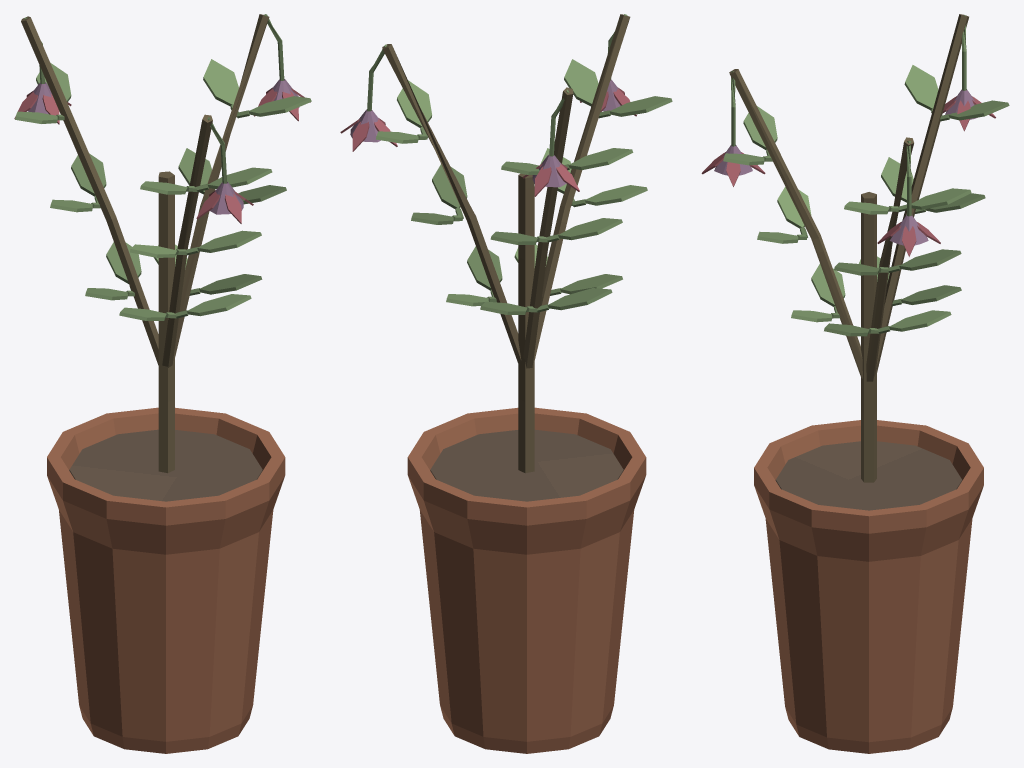
The model's file is fuchsia.glb.
3 renders of one model, left to right at view 1: azimuth 30°, elevation 25°; view 2: azimuth 150°, elevation 25°; view 3: azimuth 270°, elevation 25°, orthographic. The views are drawn at different scales.
Visible parts, largest first — view 1: fuchsia/review-terra-vessel, fuchsia/review-rooted-soil, fuchsia/petiole-001, fuchsia/stem-022, fuchsia/stem-042, fuchsia/stem-002, fuchsia/leaf-014, fuchsia/leaf-046, fuchsia/leaf-050, fuchsia/leaf-012, fuchsia/leaf-004, fuchsia/leaf-054 (+4 smaller); view 2: fuchsia/review-terra-vessel, fuchsia/review-rooted-soil, fuchsia/petiole-001, fuchsia/stem-042, fuchsia/stem-002, fuchsia/stem-022, fuchsia/leaf-054, fuchsia/leaf-012, fuchsia/leaf-008, fuchsia/leaf-026, fuchsia/leaf-030, fuchsia/leaf-034 (+4 smaller); view 3: fuchsia/review-terra-vessel, fuchsia/review-rooted-soil, fuchsia/petiole-001, fuchsia/stem-042, fuchsia/stem-022, fuchsia/stem-002, fuchsia/leaf-034, fuchsia/leaf-006, fuchsia/leaf-010, fuchsia/leaf-014, fuchsia/leaf-024, fuchsia/leaf-048 (+4 smaller).
Part boxes in pixels (bbox=[...]): fuchsia/review-terra-vessel: bbox=[47, 407, 285, 753]; fuchsia/review-rooted-soil: bbox=[69, 429, 262, 501]; fuchsia/petiole-001: bbox=[158, 171, 174, 473]; fuchsia/stem-022: bbox=[21, 16, 158, 365]; fuchsia/stem-042: bbox=[162, 114, 212, 367]; fuchsia/stem-002: bbox=[175, 14, 269, 356]; fuchsia/leaf-014: bbox=[203, 59, 238, 106]; fuchsia/leaf-046: bbox=[187, 294, 251, 316]; fuchsia/leaf-050: bbox=[197, 230, 261, 252]; fuchsia/leaf-012: bbox=[248, 96, 311, 116]; fuchsia/leaf-004: bbox=[199, 274, 262, 294]; fuchsia/leaf-054: bbox=[208, 167, 272, 188]; fuchsia/review-terra-vessel: bbox=[407, 407, 646, 753]; fuchsia/review-rooted-soil: bbox=[430, 429, 623, 501]; fuchsia/petiole-001: bbox=[518, 173, 534, 473]; fuchsia/stem-042: bbox=[534, 14, 630, 359]; fuchsia/stem-002: bbox=[382, 44, 521, 362]; fuchsia/stem-022: bbox=[523, 87, 573, 368]; fuchsia/leaf-054: bbox=[564, 59, 598, 106]; fuchsia/leaf-012: bbox=[397, 80, 431, 127]; fuchsia/leaf-008: bbox=[432, 164, 467, 209]; fuchsia/leaf-026: bbox=[547, 288, 612, 310]; fuchsia/leaf-030: bbox=[558, 218, 622, 240]; fuchsia/leaf-034: bbox=[568, 148, 633, 169]; fuchsia/review-terra-vessel: bbox=[754, 420, 983, 753]; fuchsia/review-rooted-soil: bbox=[775, 441, 962, 510]; fuchsia/petiole-001: bbox=[861, 192, 876, 482]; fuchsia/stem-042: bbox=[729, 69, 862, 378]; fuchsia/stem-022: bbox=[876, 14, 968, 372]; fuchsia/stem-002: bbox=[866, 137, 913, 381]; fuchsia/leaf-034: bbox=[904, 65, 938, 110]; fuchsia/leaf-006: bbox=[889, 310, 951, 331]; fuchsia/leaf-010: bbox=[899, 249, 961, 270]; fuchsia/leaf-014: bbox=[911, 188, 971, 209]; fuchsia/leaf-024: bbox=[901, 285, 961, 304]; fuchsia/leaf-048: bbox=[777, 186, 811, 228].
Bounding box in the file's own units: 0.2711 × 0.6047 × 0.2545.
Materials: 7 (7 with a texture image).
